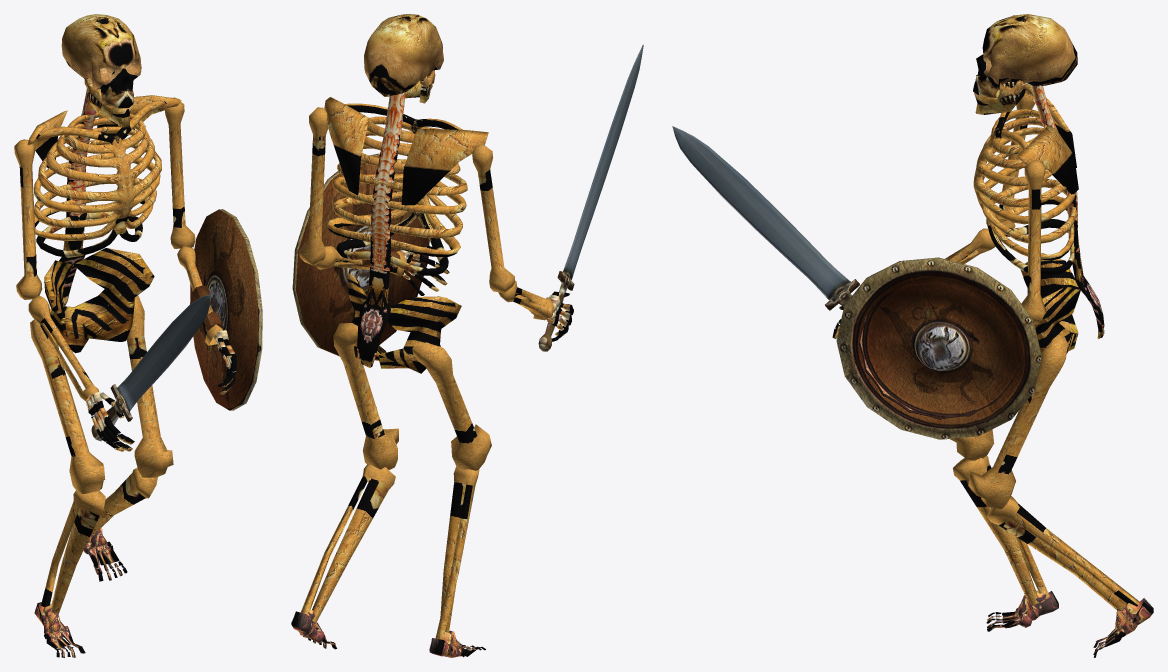
Rendered from Skeleton_000028.obj.
3 renders of one model, left to right at view 1: azimuth 30°, elevation 25°; view 2: azimuth 150°, elevation 25°; view 3: azimuth 270°, elevation 25°, orthographic. The views are drawn at different scales.
Parts seen in each view (by area): view 1: Costillar, Shield_Shield.001, Coxis, Femur, Skull, Tibia, Humero, Sword, Radio, Feet, Hands, Omoplato (+1 smaller); view 2: Costillar, Shield_Shield.001, Tibia, Femur, Omoplato, Skull, Humero, Coxis, Sword, Radio, Feet, Hands; view 3: Shield_Shield.001, Costillar, Sword, Tibia, Skull, Femur, Humero, Coxis, Omoplato, Feet, Mandibula, Radio.
Part boxes in pixels (bbox=[...]): Costillar: bbox=[34, 82, 166, 306]; Shield_Shield.001: bbox=[190, 209, 262, 410]; Coxis: bbox=[44, 248, 154, 353]; Femur: bbox=[30, 295, 173, 493]; Skull: bbox=[61, 14, 141, 108]; Tibia: bbox=[41, 467, 157, 613]; Humero: bbox=[14, 97, 195, 299]; Sword: bbox=[91, 294, 211, 441]; Radio: bbox=[28, 246, 222, 401]; Feet: bbox=[34, 528, 127, 657]; Hands: bbox=[86, 330, 236, 451]; Omoplato: bbox=[27, 95, 181, 168]; Costillar: bbox=[327, 92, 467, 367]; Shield_Shield.001: bbox=[292, 153, 429, 356]; Tibia: bbox=[300, 464, 479, 639]; Femur: bbox=[333, 323, 491, 470]; Omoplato: bbox=[324, 97, 488, 205]; Skull: bbox=[364, 14, 443, 96]; Humero: bbox=[299, 107, 515, 292]; Coxis: bbox=[348, 273, 461, 373]; Sword: bbox=[538, 44, 643, 351]; Radio: bbox=[315, 246, 553, 320]; Feet: bbox=[291, 609, 485, 657]; Hands: bbox=[400, 246, 573, 341]; Shield_Shield.001: bbox=[836, 257, 1041, 439]; Costillar: bbox=[973, 85, 1104, 338]; Sword: bbox=[672, 126, 859, 310]; Tibia: bbox=[953, 456, 1139, 610]; Skull: bbox=[973, 14, 1077, 97]; Femur: bbox=[950, 335, 1067, 508]; Humero: bbox=[999, 93, 1046, 324]; Coxis: bbox=[1020, 253, 1080, 353]; Omoplato: bbox=[1017, 83, 1078, 194]; Feet: bbox=[986, 590, 1153, 657]; Mandibula: bbox=[974, 80, 1024, 114]; Radio: bbox=[945, 228, 995, 263].
Bounding box in the file's own units: 2.89 × 8.68 × 5.97.
5 materials, 5 textured.
